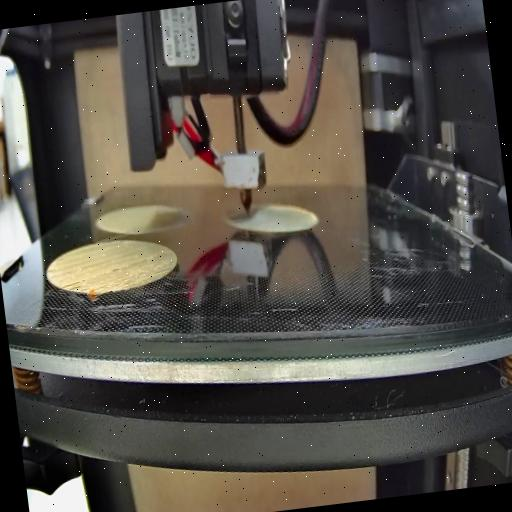under_extrusion: (110, 258, 148, 276), (62, 277, 92, 297), (152, 267, 168, 279), (93, 282, 112, 292)
